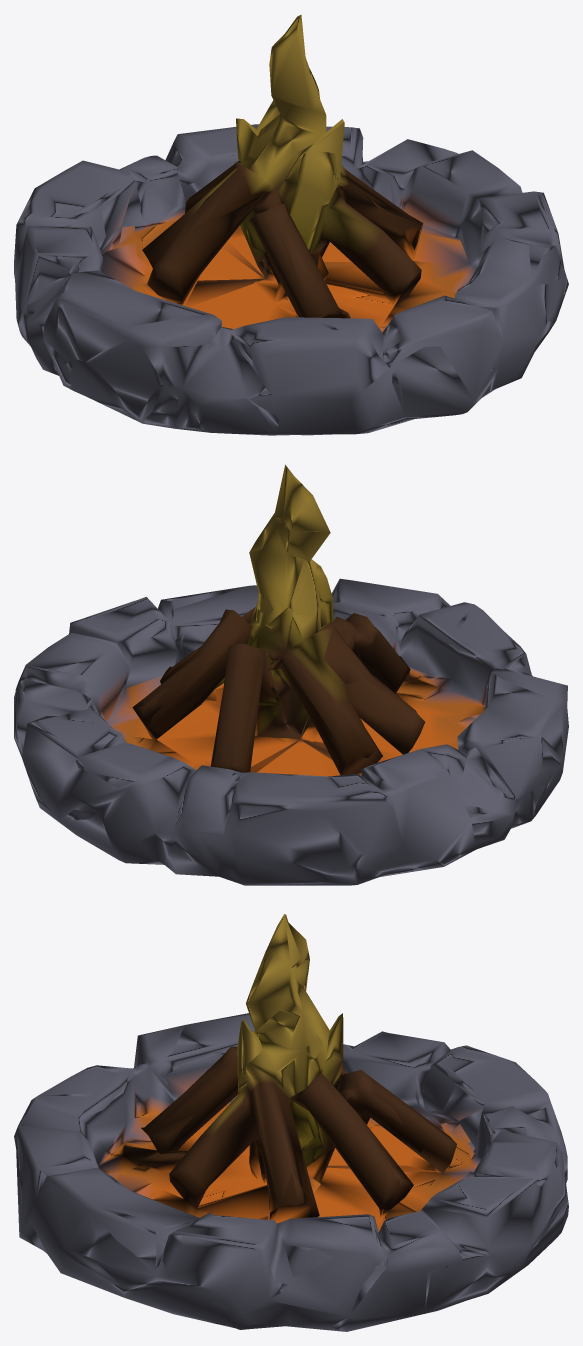
File: gen3d-beach-bonfire-lod0.glb
3 views of the same model, one above another, from view 1: azimuth 30°, elevation 25°; view 2: azimuth 150°, elevation 25°; view 3: azimuth 270°, elevation 25° (orthographic).
Parts seen in each view (by area): view 1: part_0; view 2: part_0; view 3: part_0.
Part boxes in pixels (<box>): part_0: <box>14,15,568,435</box>; part_0: <box>14,464,568,885</box>; part_0: <box>14,914,568,1331</box>.
Size of the model in its own units: 1.63 by 1 by 1.61.
